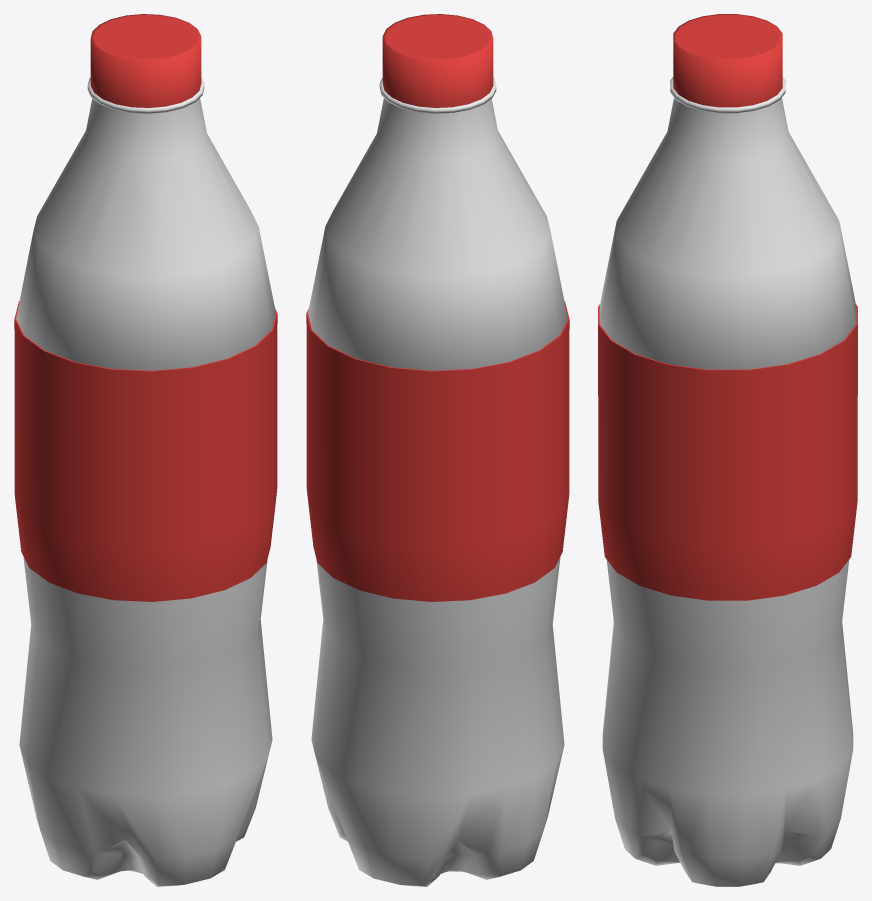
File: P_coca.fbx
3 renders of one model, left to right at view 1: azimuth 30°, elevation 25°; view 2: azimuth 150°, elevation 25°; view 3: azimuth 270°, elevation 25°, orthographic.
Parts seen in each view (by area): view 1: Bouteille en verre, Etiquette001, Bouchon001; view 2: Bouteille en verre, Etiquette001, Bouchon001; view 3: Bouteille en verre, Etiquette001, Bouchon001.
Part boxes in pixels (x1,y1,x2,y2): Bouteille en verre: (16,77,275,886); Etiquette001: (14,301,277,601); Bouchon001: (90,14,201,107); Bouteille en verre: (308,77,567,886); Etiquette001: (306,301,569,601); Bouchon001: (382,14,493,107); Bouteille en verre: (599,77,856,886); Etiquette001: (598,304,857,600); Bouchon001: (673,14,782,107).
Bounding box in the file's own units: 3.96 × 13.72 × 3.96.
